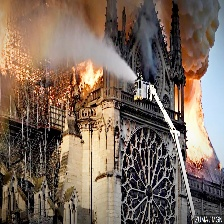fire: (179, 105, 219, 171), (75, 64, 109, 89)
smoke: (42, 1, 222, 78)
